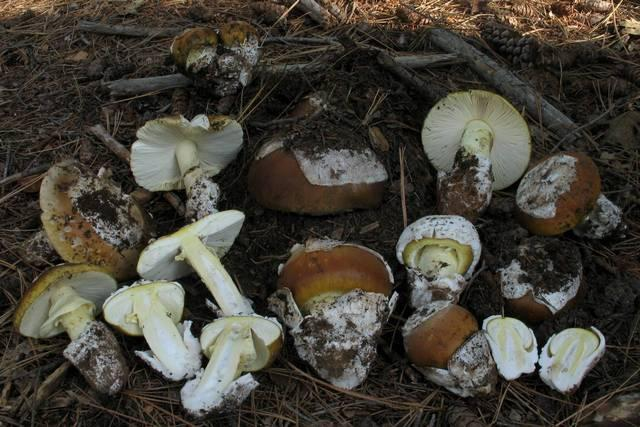edible_mushroom: (13, 84, 618, 416), (271, 237, 397, 390), (420, 88, 532, 220), (38, 159, 153, 280), (246, 121, 388, 215), (129, 112, 243, 222), (401, 300, 498, 398), (395, 213, 482, 307), (514, 149, 601, 235), (169, 20, 261, 96), (537, 324, 605, 394)
